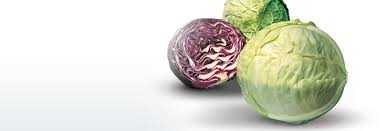cabbage: (243, 29, 348, 126), (161, 24, 244, 94)
